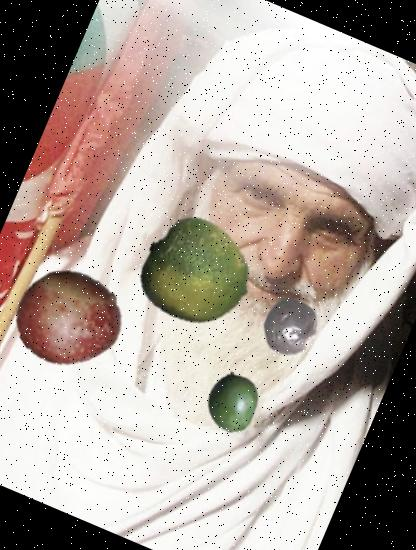Limes: (126, 202, 268, 344)
Mango: (192, 363, 272, 443)
Nectarine: (0, 250, 135, 385)
Passion: (250, 288, 329, 367)
